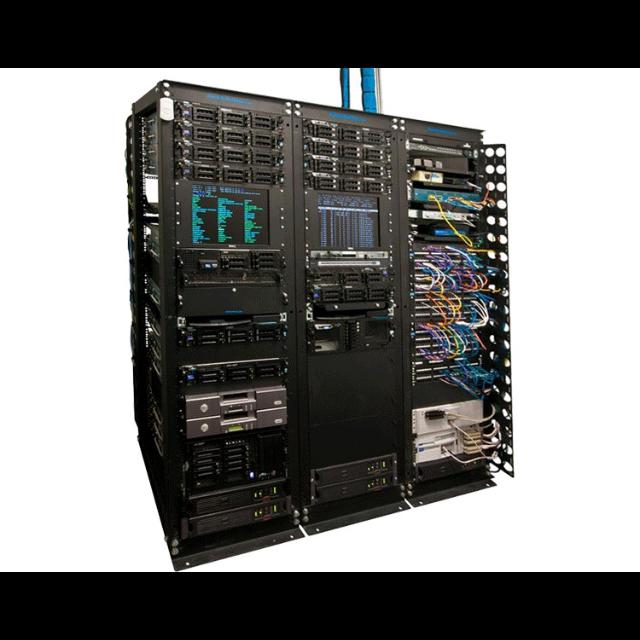Server: (134, 82, 302, 554), (292, 100, 401, 536), (402, 116, 493, 514)
